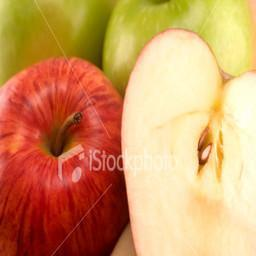apple: (1, 57, 127, 254)
